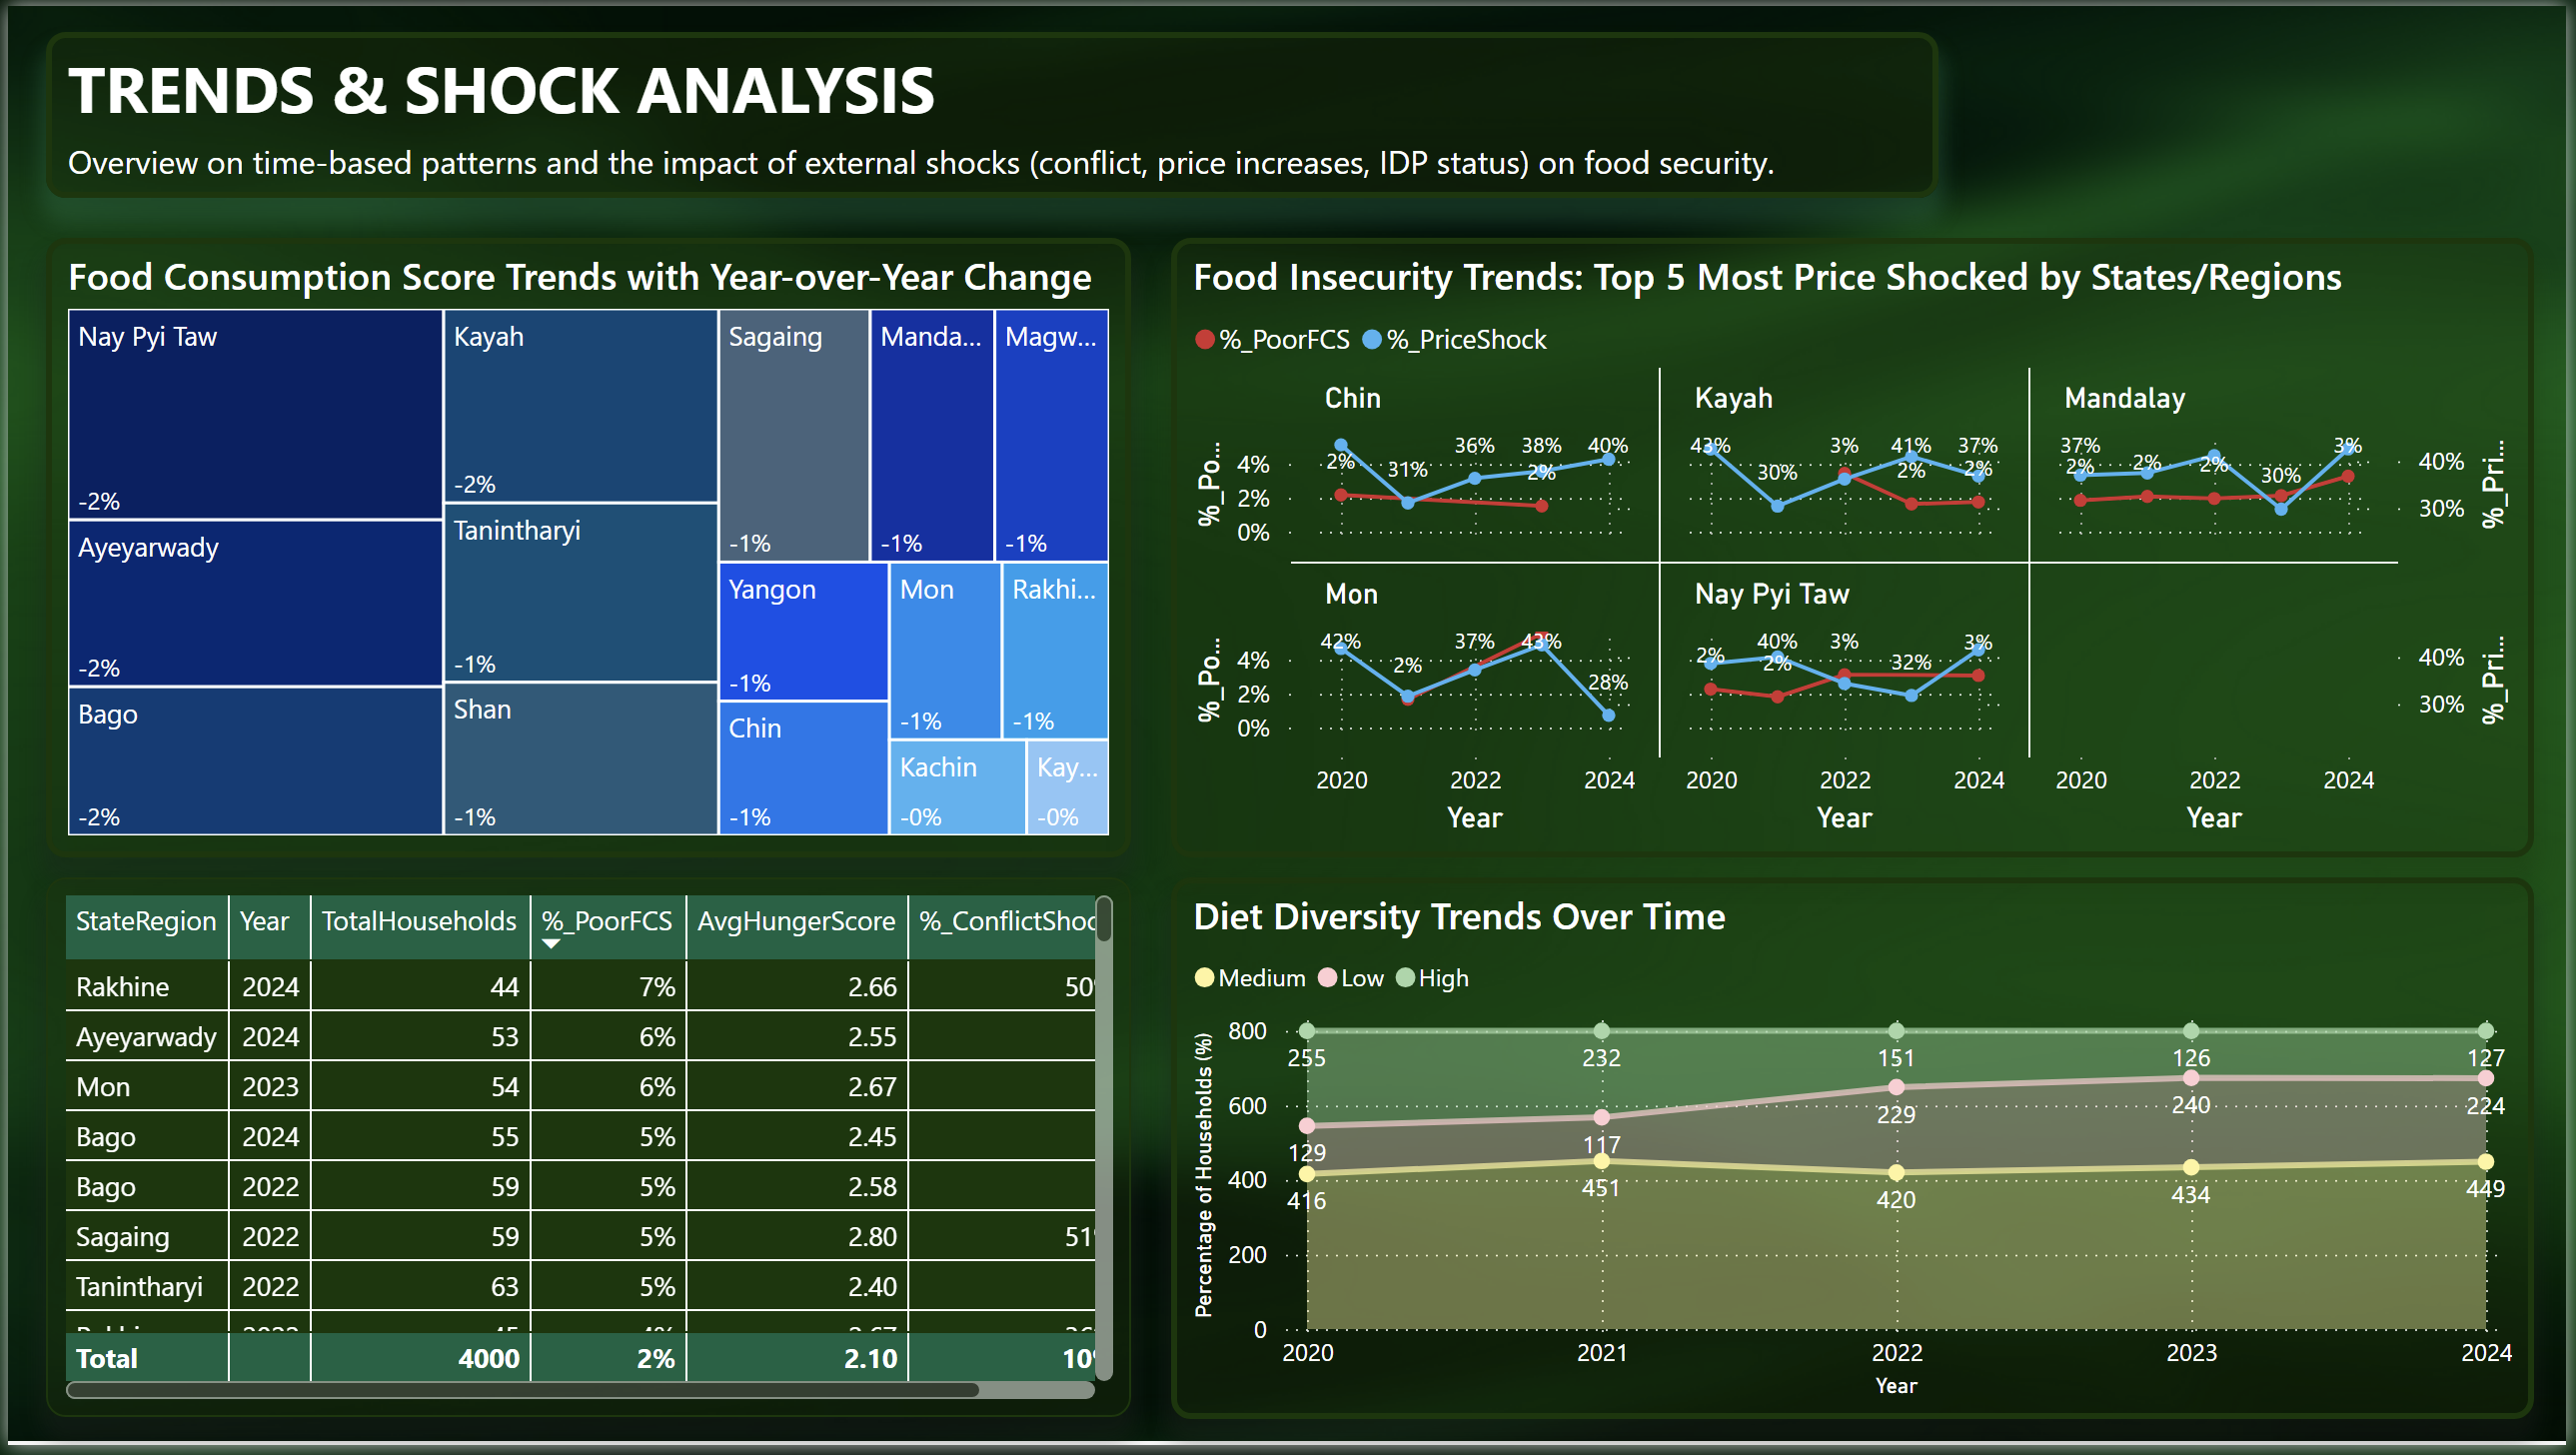

The page's visual inventory and layout, read from the dashboard file:
{"tool":"powerbi","page":{"name":"TRENDS & SHOCK","canvas":[1280,720],"ordinal":2},"visuals":[{"type":"textbox","title":"TRENDS & SHOCK ANALYSIS","box":[19,12.6,947.4,83.5],"z":0},{"type":"treemap","title":"Food Consumption Score Trends with Year-over-Year Change","fields":{"Group":["dim_geography.StateRegion"],"Values":["fact_foodsecurity.FCS_YOY_Change"]},"box":[19,116.4,542.6,309.9],"z":1000},{"type":"stackedAreaChart","title":"Diet Diversity Trends Over Time","fields":{"Category":["dim_date.Year"],"Y":["fact_foodsecurity.TotalHouseholds"],"Series":["fact_foodsecurity.DietDiversityCategory"]},"box":[581.8,436.4,681.7,270.7],"z":2000},{"type":"lineChart","title":"Food Insecurity Trends: Top 5 Most Price Shocked by States/Regions","fields":{"Category":["dim_date.Year"],"Y":["fact_foodsecurity.%_PoorFCS"],"Rows":["dim_geography.StateRegion"],"Y2":["fact_foodsecurity.%_PriceShock"]},"box":[581.8,116.4,681.7,309.9],"z":3000},{"type":"tableEx","fields":{"Values":["dim_geography.StateRegion","dim_date.Year","fact_foodsecurity.TotalHouseholds","fact_foodsecurity.%_PoorFCS","fact_foodsecurity.AvgHungerScore","fact_foodsecurity.%_ConflictShock","fact_foodsecurity.%_IDP"]},"box":[19,436.4,542.6,269.4],"z":4000},{"type":"slicer","fields":{"Values":["dim_geography.StateRegion"]},"box":[19.1,219.9,190,210.3],"z":4001}]}

Visuals, with their boxes in screenshot pixels (x1, y1, x2, y2), scaled from the page's 1280x720 canvas onto the 2576x1455 screenshot:
"TRENDS & SHOCK ANALYSIS" textbox: pyautogui.locateOnScreen(38, 25, 1944, 194)
"Food Consumption Score Trends with Year-over-Year Change" treemap: pyautogui.locateOnScreen(38, 235, 1130, 861)
"Diet Diversity Trends Over Time" stackedAreaChart: pyautogui.locateOnScreen(1171, 881, 2543, 1429)
"Food Insecurity Trends: Top 5 Most Price Shocked by States/Regions" lineChart: pyautogui.locateOnScreen(1171, 235, 2543, 861)
tableEx - dim_geography.StateRegion x dim_date.Year: pyautogui.locateOnScreen(38, 881, 1130, 1426)
slicer - dim_geography.StateRegion: pyautogui.locateOnScreen(38, 445, 421, 869)
